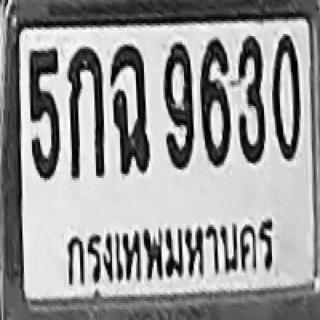A01: (67, 46, 104, 178)
N00: (272, 34, 301, 161)
N03: (236, 35, 265, 164)
N05: (29, 48, 60, 181)
N06: (200, 38, 230, 167)
N09: (163, 40, 194, 170)
P04: (59, 217, 281, 290)
